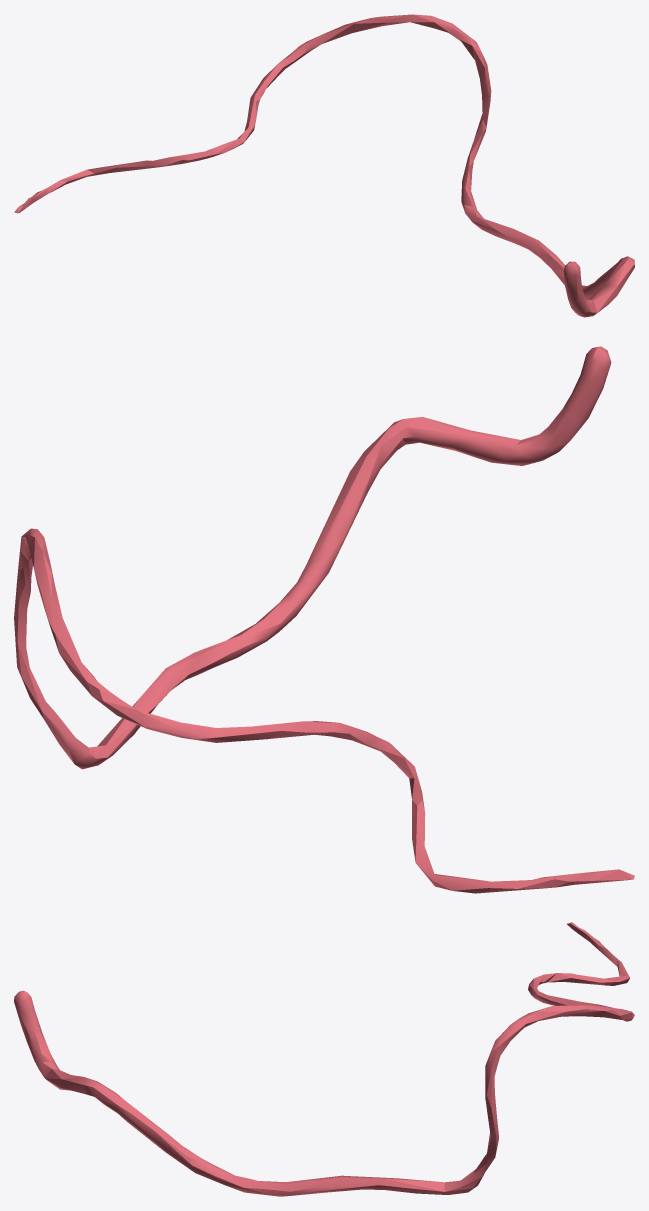
The model's file is fma50519_fj1711.glb.
The picture shows the model from 3 angles, top to bottom: view 1: azimuth 30°, elevation 25°; view 2: azimuth 150°, elevation 25°; view 3: azimuth 270°, elevation 25°; orthographic projection. The views are drawn at different scales.
Visible parts, largest first — view 1: FMA50519_FJ1711; view 2: FMA50519_FJ1711; view 3: FMA50519_FJ1711.
Boxes of the visible parts, left/top/right/bottom form: FMA50519_FJ1711: left=14, top=14, right=634, bottom=317; FMA50519_FJ1711: left=14, top=346, right=634, bottom=893; FMA50519_FJ1711: left=14, top=922, right=634, bottom=1196.
Size of the model in its own units: 0.0276 by 0.0107 by 0.0332.
